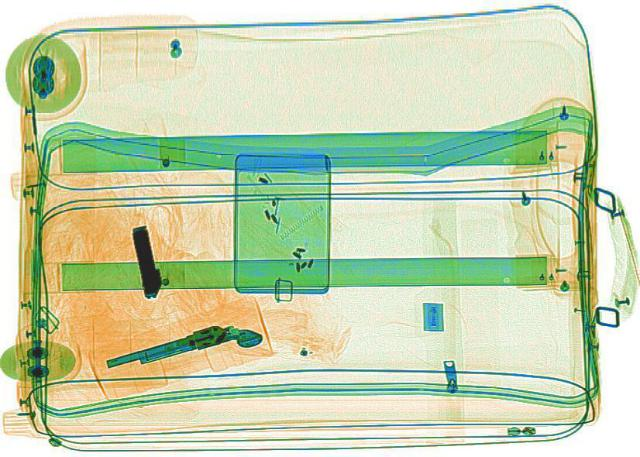Gun: (98, 313, 266, 384), (126, 224, 166, 297)
